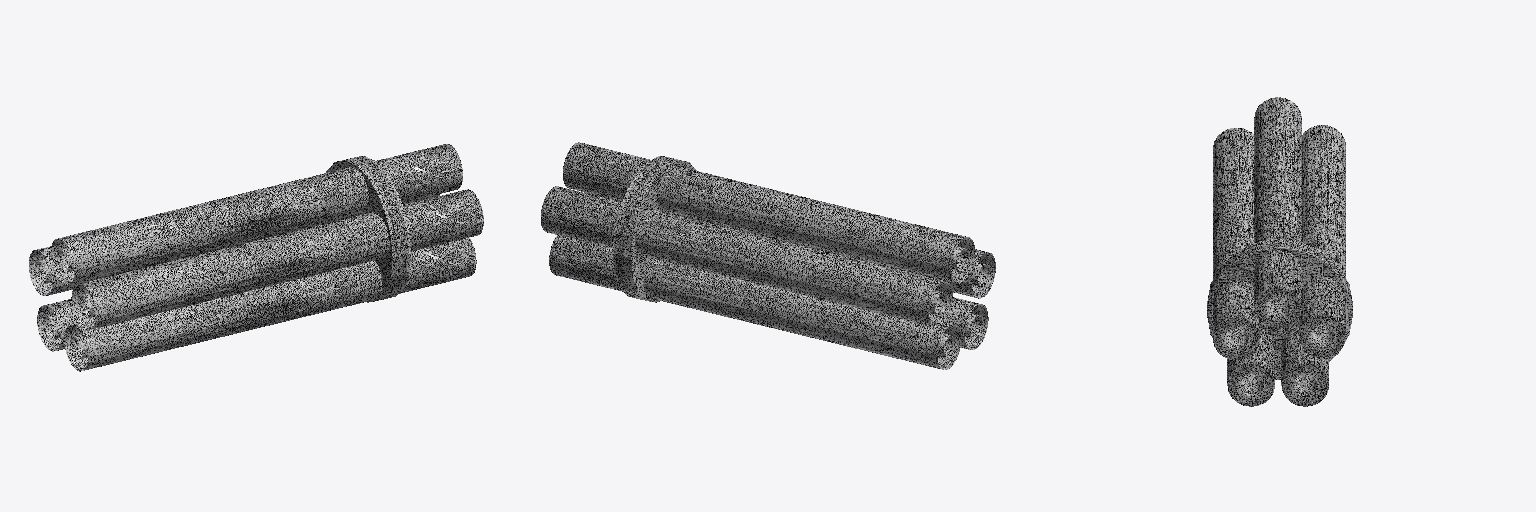
3 views of the same model, side by side, from view 1: azimuth 30°, elevation 25°; view 2: azimuth 150°, elevation 25°; view 3: azimuth 270°, elevation 25° (orthographic).
Parts seen in each view (by area): view 1: torretauno_objt; view 2: torretauno_objt; view 3: torretauno_objt.
Boxes of the visible parts, x1,y1,x2,y2 form: torretauno_objt: [29, 144, 483, 371]; torretauno_objt: [541, 142, 995, 369]; torretauno_objt: [1207, 97, 1352, 406].
Bounding box in the file's own units: 36.64 × 11.94 × 11.94.
1 materials, 1 textured.